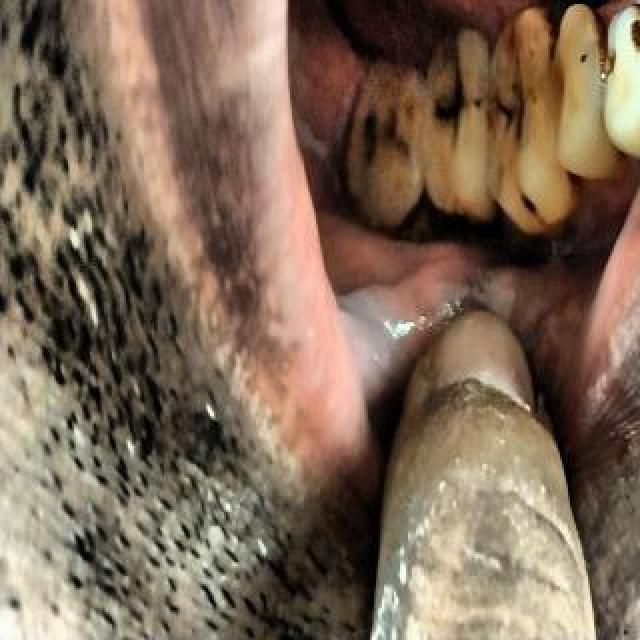cavities: (329, 80, 507, 190), (403, 46, 511, 140), (480, 166, 560, 210)
stains: (0, 568, 30, 640)
